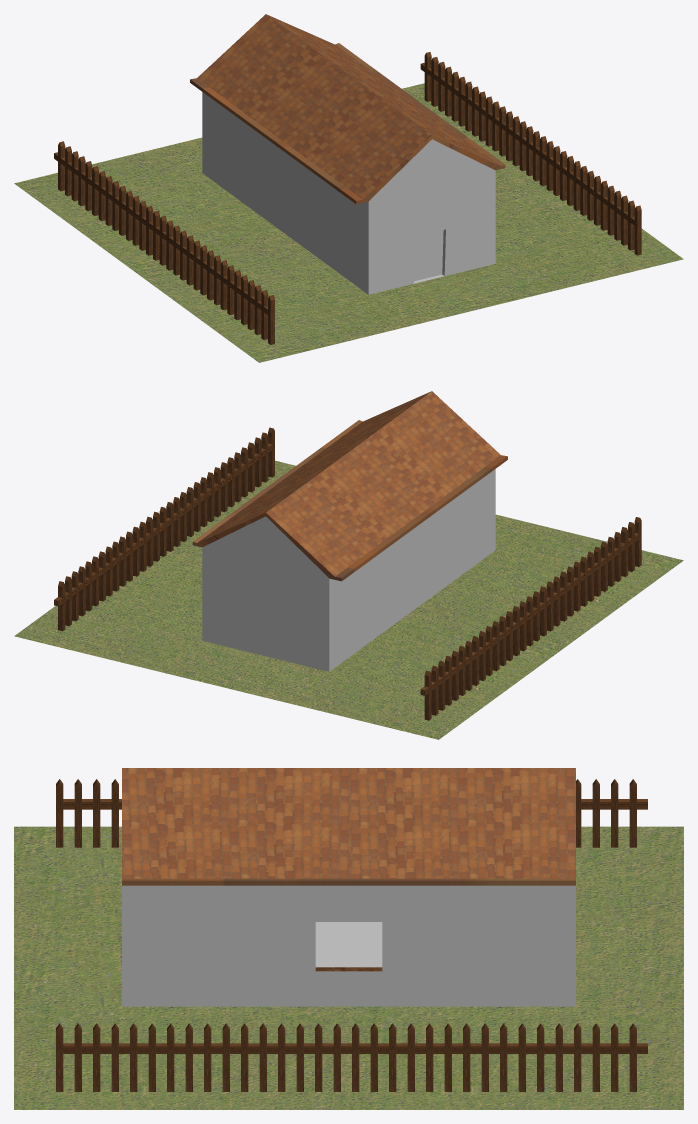
Rendered from House02.fbx.
3 renders of one model, top to bottom at view 1: azimuth 30°, elevation 25°; view 2: azimuth 150°, elevation 25°; view 3: azimuth 270°, elevation 25°, orthographic. The views are drawn at different scales.
Visible parts, largest first — view 1: House; view 2: House; view 3: House.
Part boxes in pixels (x1,y1,x2,y2): House: [14, 14, 683, 362]; House: [14, 391, 683, 739]; House: [14, 768, 683, 1109].
Size of the model in its own units: 2000 by 659 by 2000.
